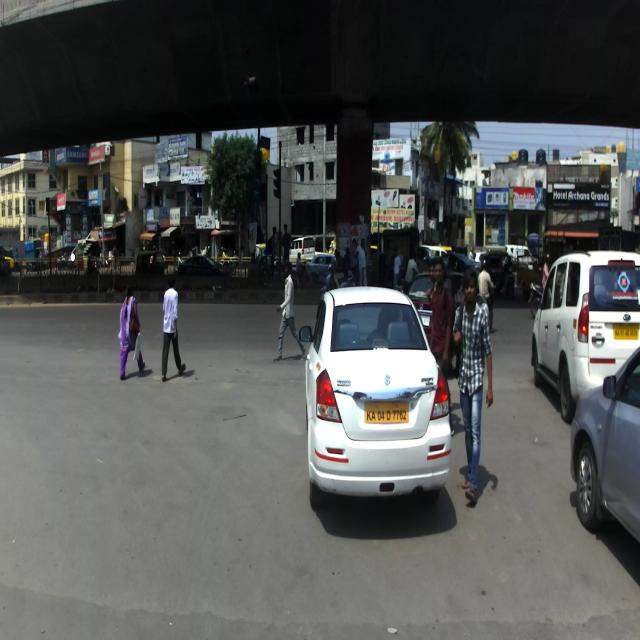car ahead at: (305, 279, 456, 517), (529, 245, 640, 388)
person ahead at: (459, 278, 496, 500), (116, 285, 149, 384), (158, 278, 186, 392)
